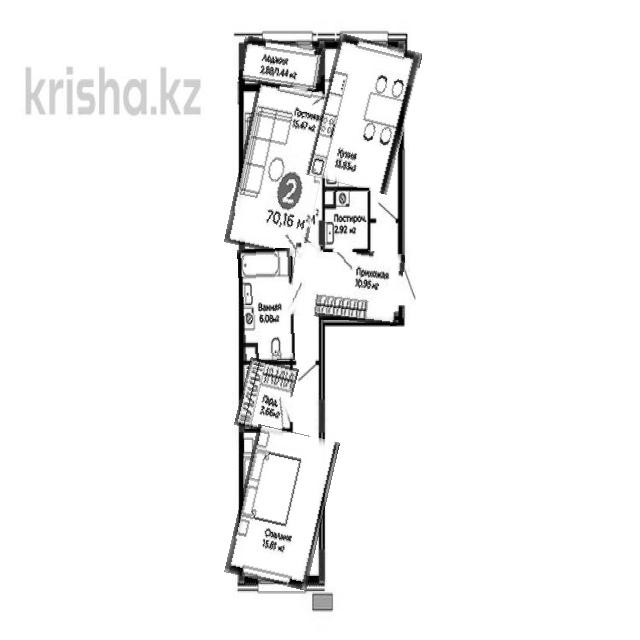balcony: (239, 38, 325, 89)
bathroom: (239, 249, 294, 362), (324, 188, 369, 252)
hallway: (290, 245, 404, 323)
kitchen: (313, 37, 414, 191)
living_room: (232, 84, 330, 256), (232, 428, 332, 588)
other: (238, 360, 296, 434)
